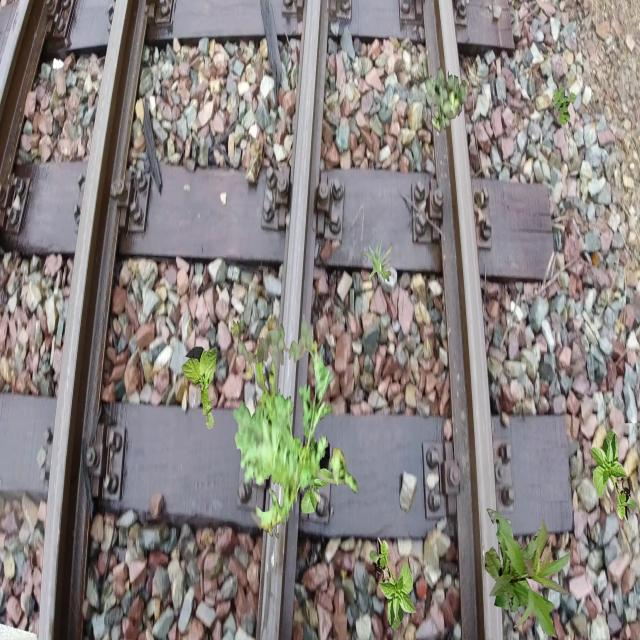Plant: (233, 343, 358, 539), (485, 509, 574, 639), (231, 312, 318, 380), (369, 537, 417, 632), (589, 429, 637, 524), (291, 434, 333, 514), (424, 67, 468, 134), (181, 346, 216, 429), (360, 237, 392, 283), (552, 86, 576, 127)
